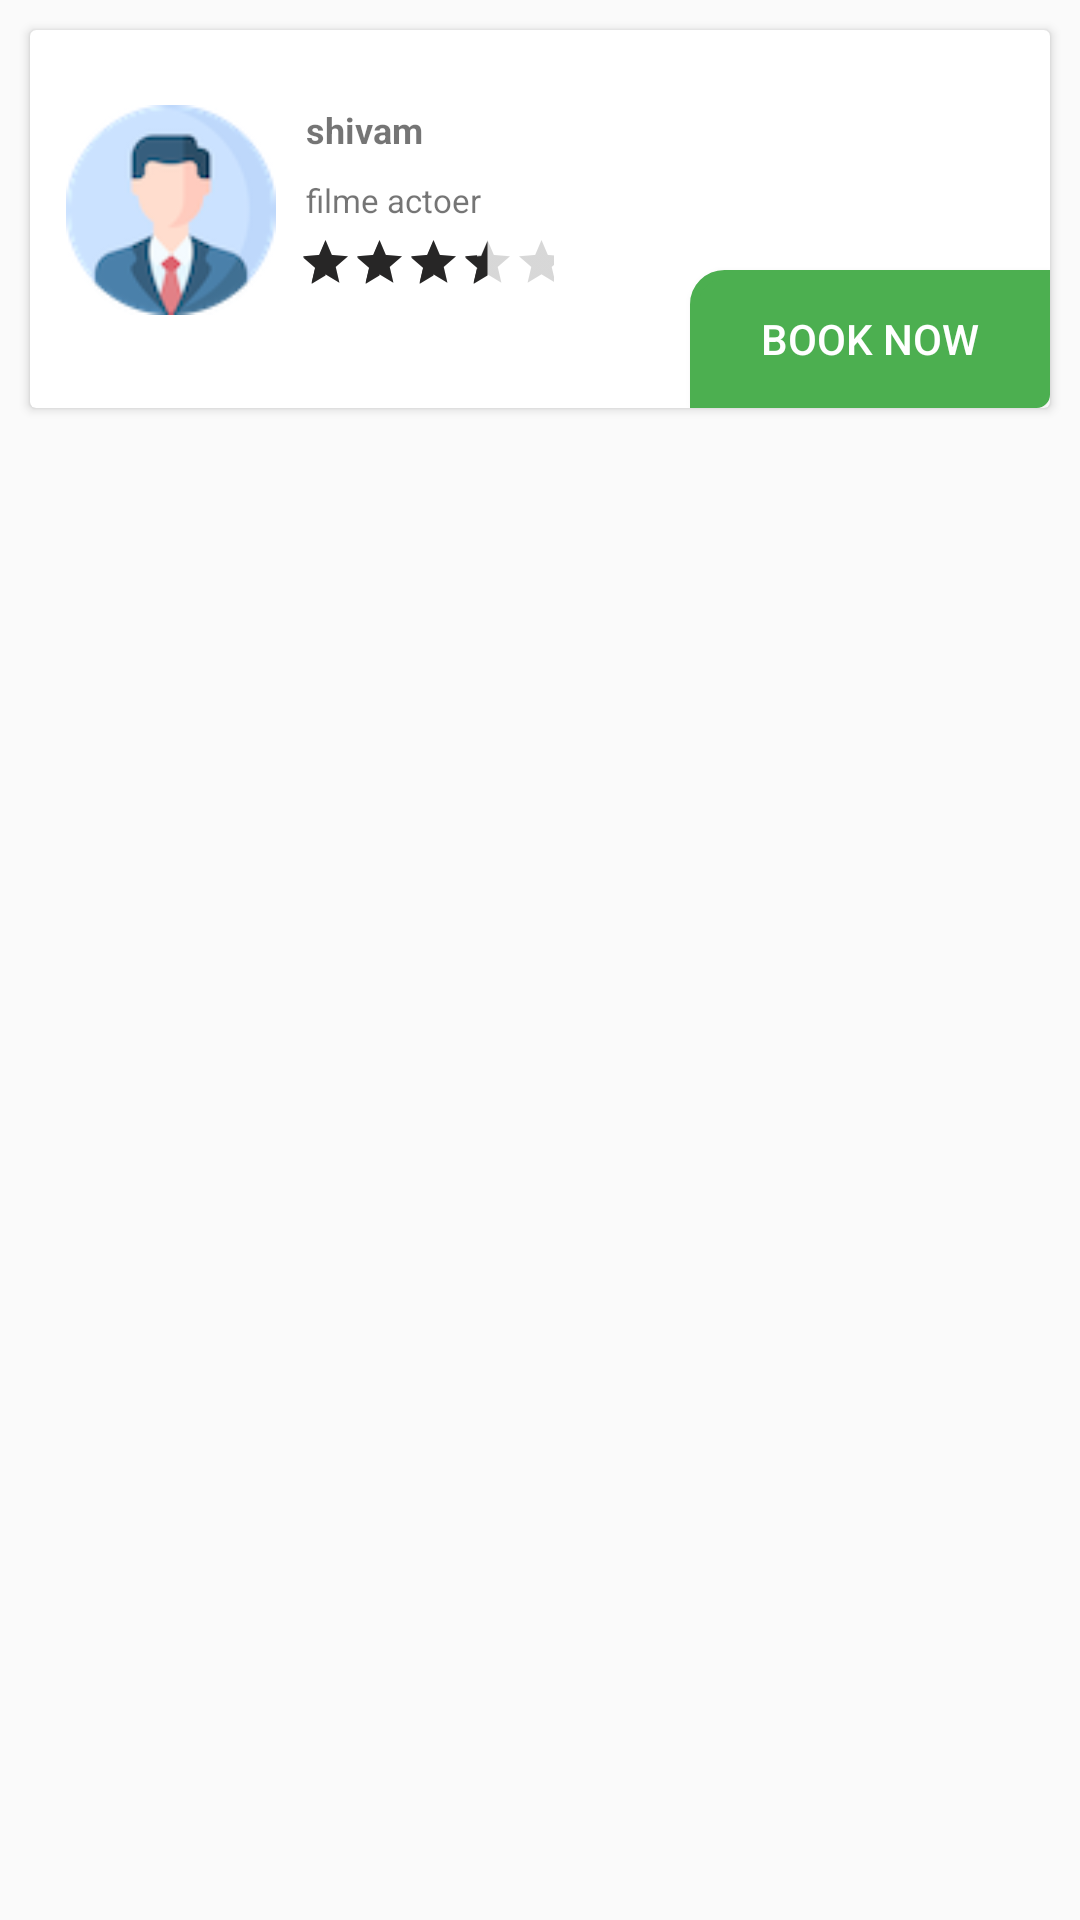

Where to tap for icons on this 1080*1920 app screen, as (x=x, y=y):
profile: (x=171, y=210)
